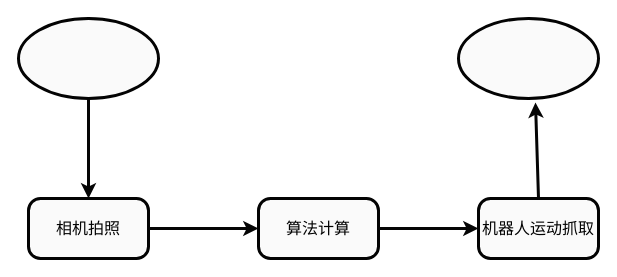
Image size: 617x277. Some labels were removed from this diagram. The centre of each missing label's shape, as x and y in pixels:
"开始" goes at (88,58).
"结束" goes at (528,58).
